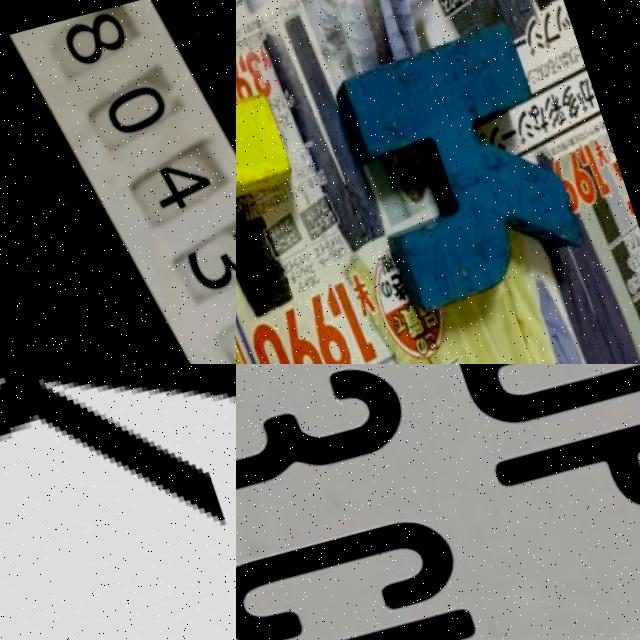0: (82, 54, 190, 148)
3: (236, 364, 412, 518), (163, 198, 236, 305)
4: (126, 128, 235, 224)
8: (41, 0, 150, 79)
C: (236, 494, 465, 640)
D: (449, 364, 640, 440)
K: (334, 13, 590, 321), (0, 364, 236, 631)
L: (236, 64, 348, 364), (236, 586, 495, 640)
P: (489, 378, 640, 556)
